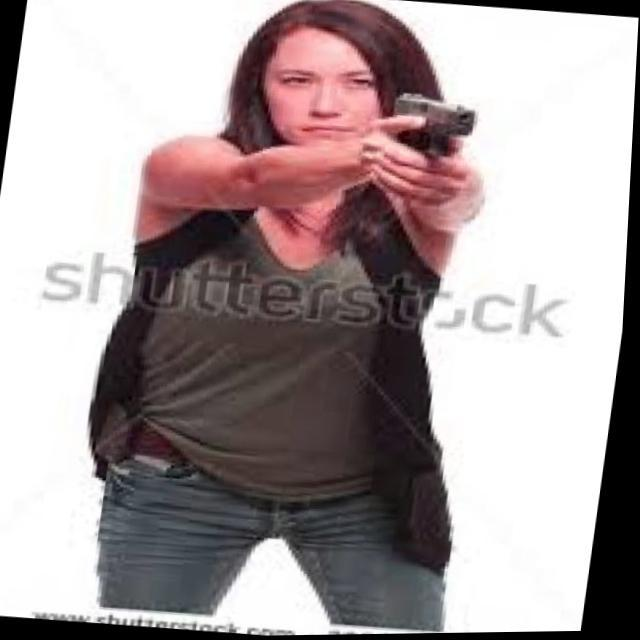weapon: (385, 90, 478, 163)
